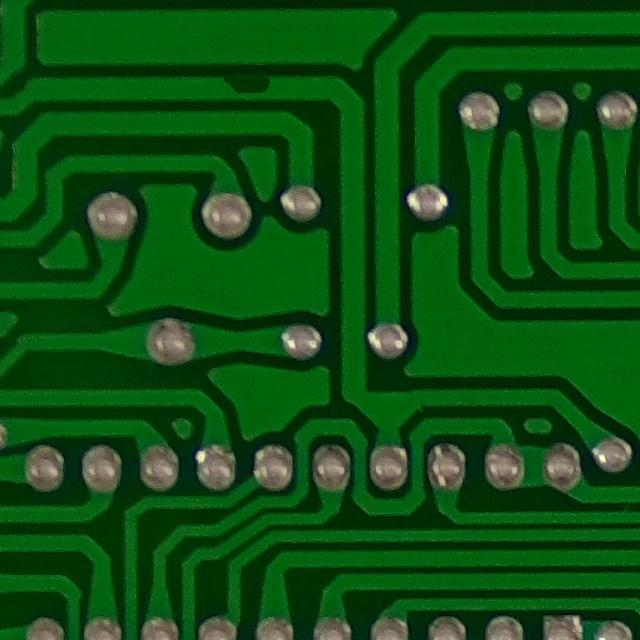mouse_bite: (210, 64, 286, 109)
